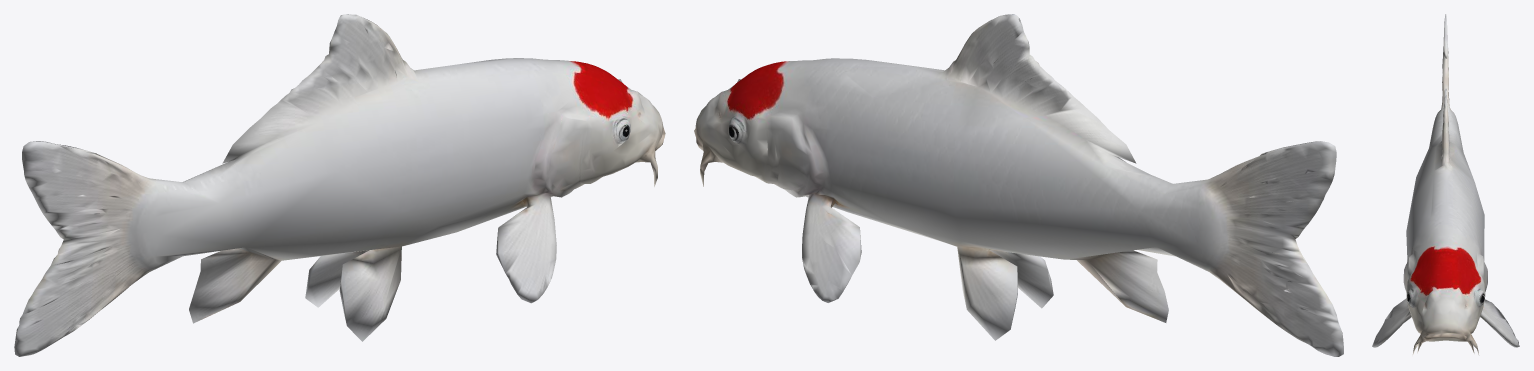
Rendered from tancho.glb.
3 views of the same model, side by side, from view 1: azimuth 30°, elevation 25°; view 2: azimuth 150°, elevation 25°; view 3: azimuth 270°, elevation 25° (orthographic). The views are drawn at different scales.
Parts seen in each view (by area): view 1: tancho; view 2: tancho; view 3: tancho.
Boxes of the visible parts, x1,y1,x2,y2 form: tancho: (14,14,665,356); tancho: (694,14,1343,356); tancho: (1372,14,1519,355).
Bounding box in the file's own units: 1 × 0.4602 × 0.2728.
1 material, 1 textured.
